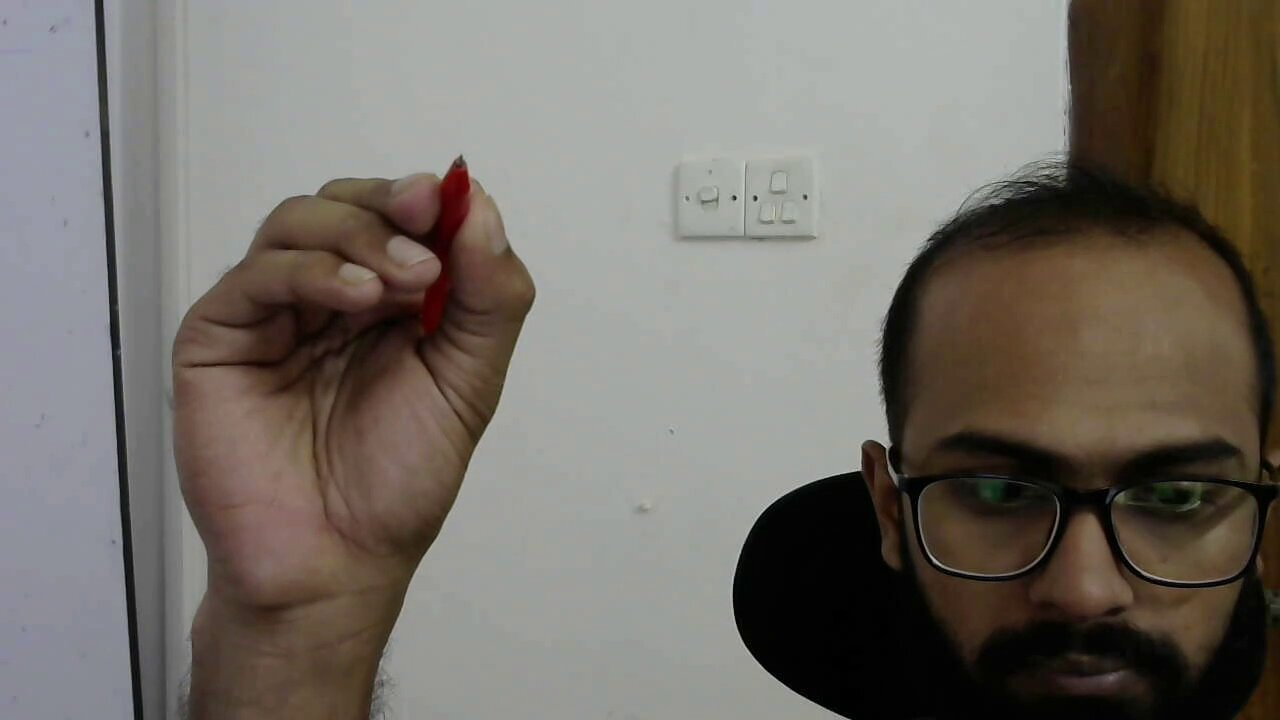pointer: (159, 168, 548, 512)
